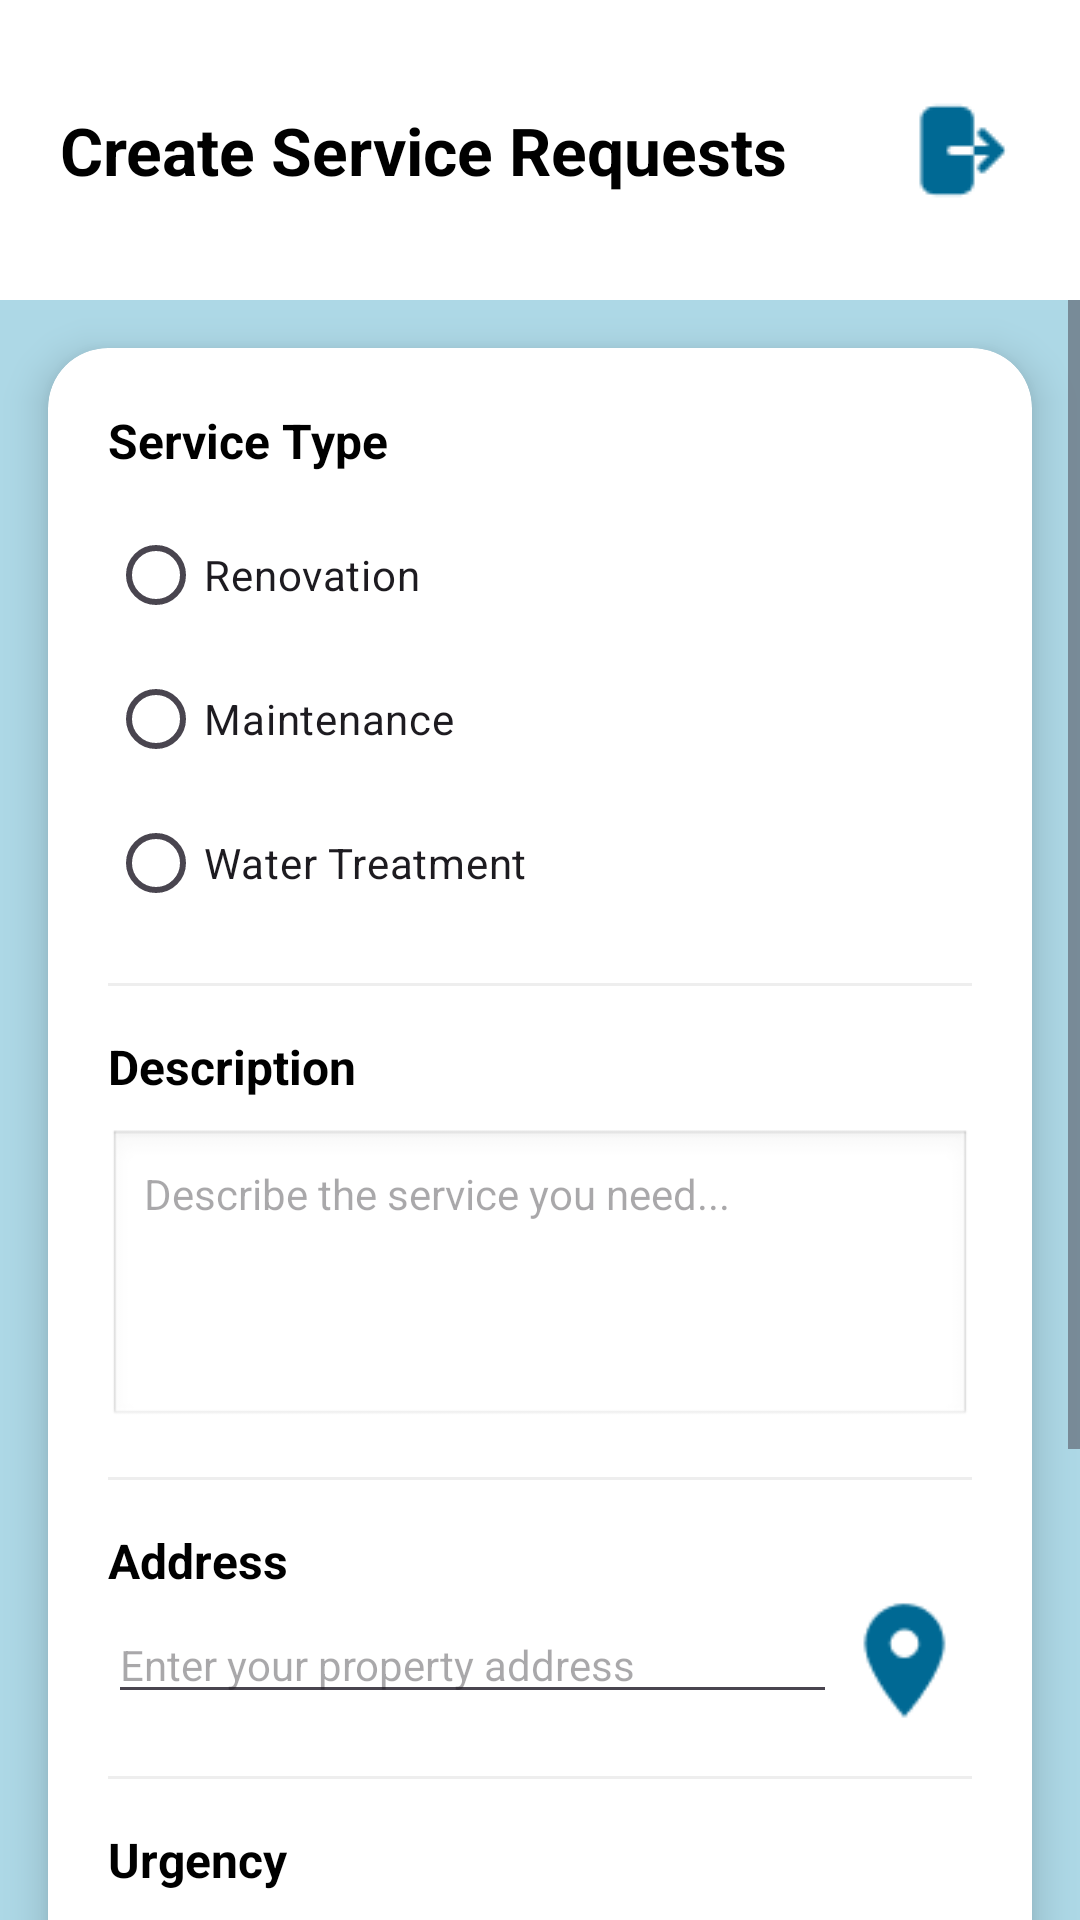

Where icons sit on this 1080w x 1920h app screen, as (x1, y1, x2, y2):
location: (863, 1603, 946, 1718)
